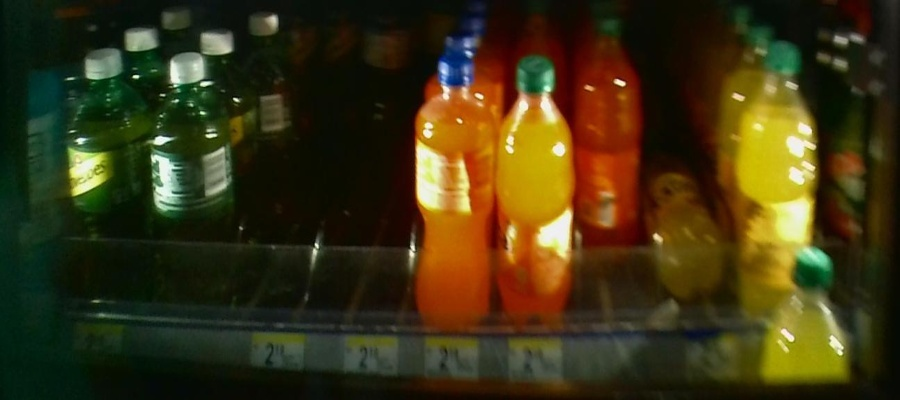bottle: (413, 51, 493, 332), (737, 38, 815, 314), (149, 52, 233, 307), (67, 45, 147, 303), (497, 59, 572, 333), (576, 18, 640, 265), (652, 170, 723, 299), (357, 8, 404, 124)
